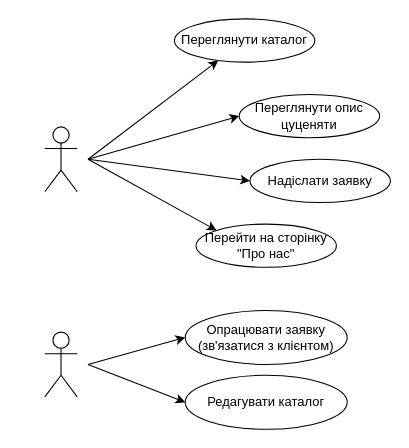
The diagram is 409 pixels wide and 448 high, and some of its shapes have lost their labels. The box of each missing label's shape, as (x1, y1, x2, y2) in pixels:
Адміністратор: (44, 331, 77, 397)
Користувач: (44, 126, 77, 192)
